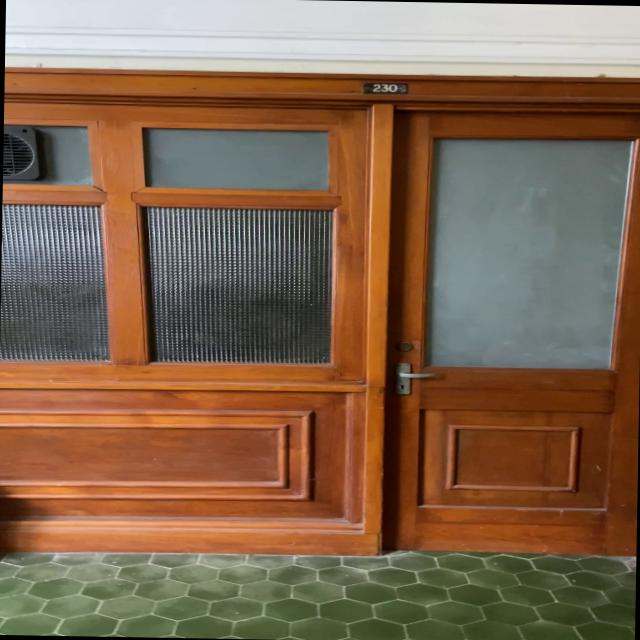room230: (361, 80, 408, 96)
